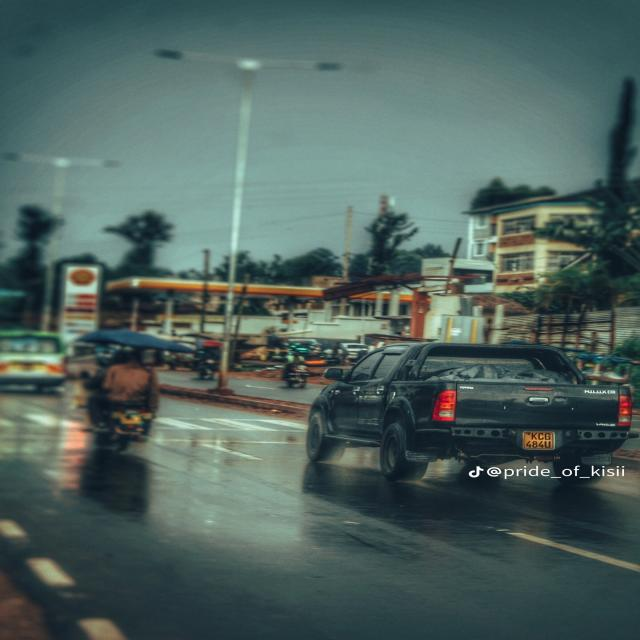bodaboda: (66, 370, 176, 462)
matatu: (0, 324, 76, 398)
